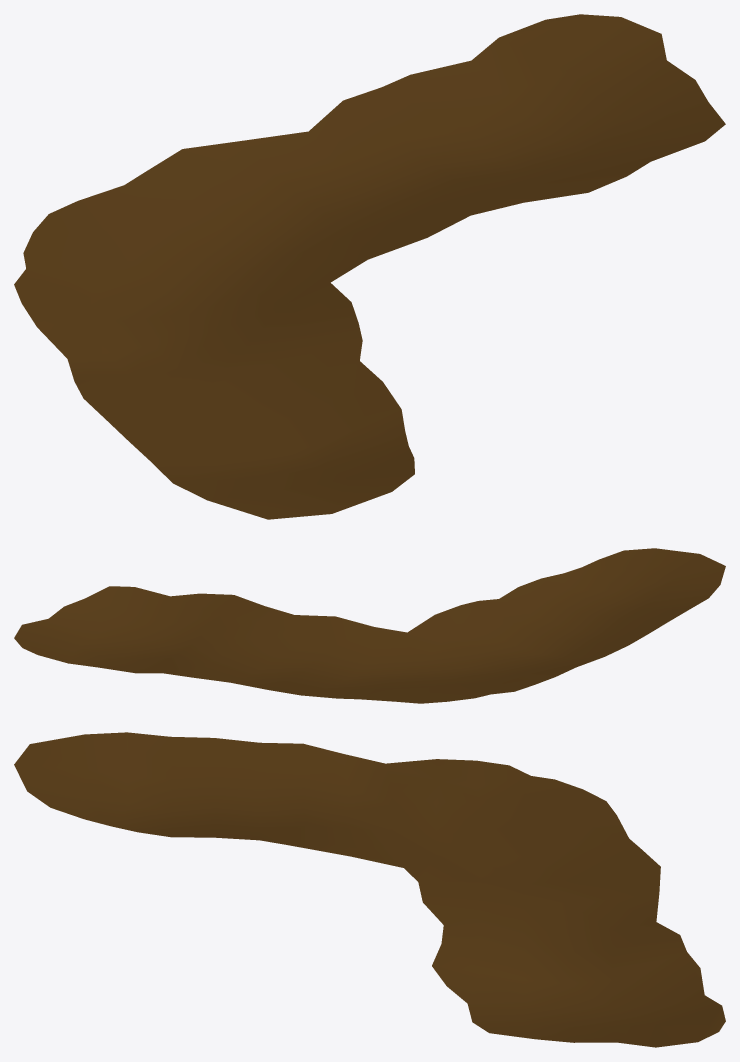
Rendered from LshapedMud.FBX.
3 renders of one model, top to bottom at view 1: azimuth 30°, elevation 25°; view 2: azimuth 150°, elevation 25°; view 3: azimuth 270°, elevation 25°, orthographic. The views are drawn at different scales.
Visible parts, largest first — view 1: LshapedMud; view 2: LshapedMud; view 3: LshapedMud.
Part boxes in pixels (bbox=[...]): LshapedMud: bbox=[14, 14, 725, 519]; LshapedMud: bbox=[14, 548, 725, 703]; LshapedMud: bbox=[14, 732, 725, 1047].
Size of the model in its own units: 9004 by 294 by 8580.
